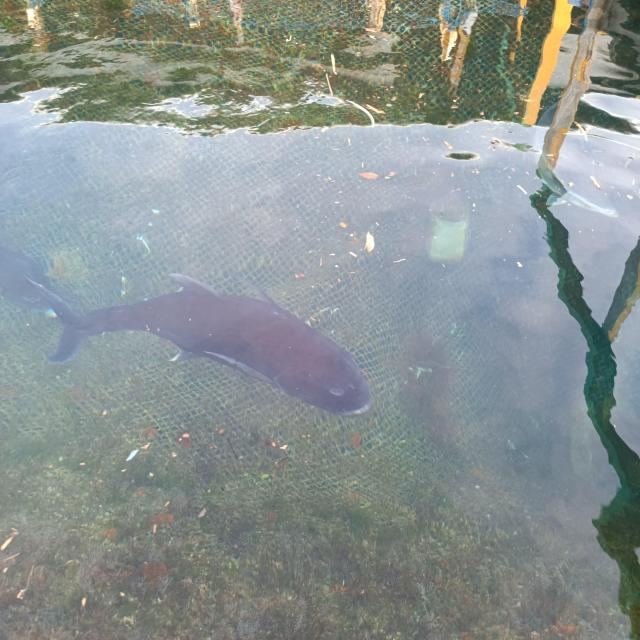ikan: (22, 268, 373, 418)
